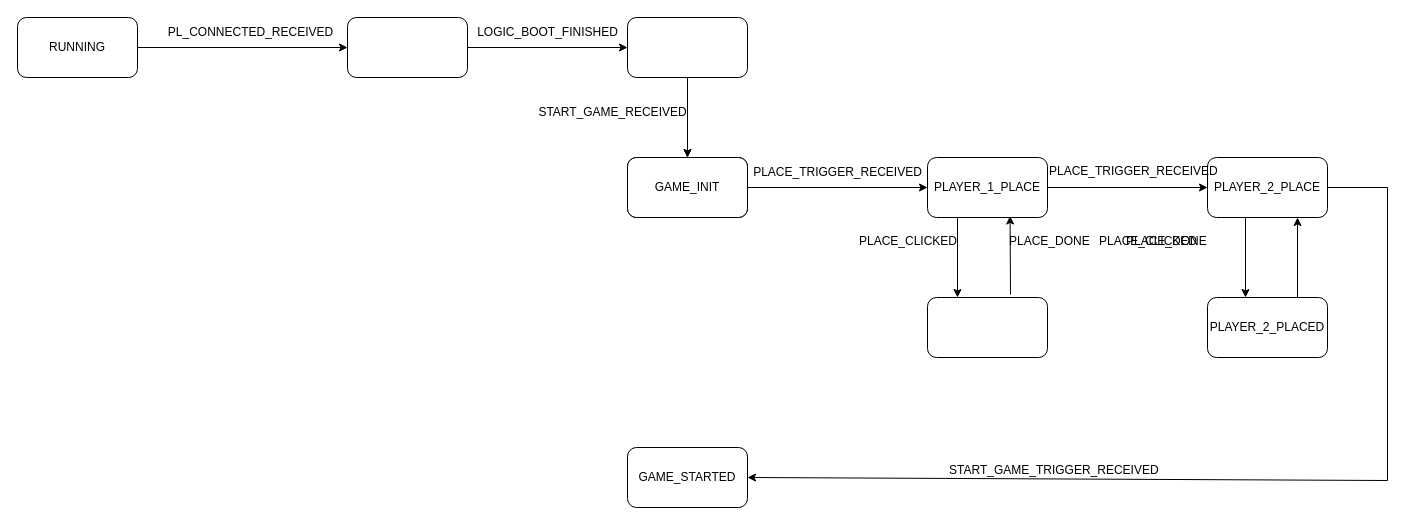
Image size: 1413x525. Some labels were removed from this diagram. Each missing label, with the centre of its shape:
PL_CONNECTED: the point at 407,47
PLAYER_1_PLACING: the point at 987,327
WELCOME: the point at 687,47
